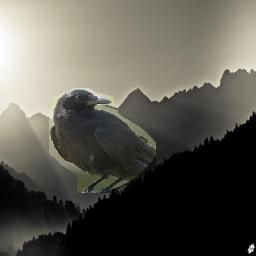Crow: (50, 89, 157, 194)
